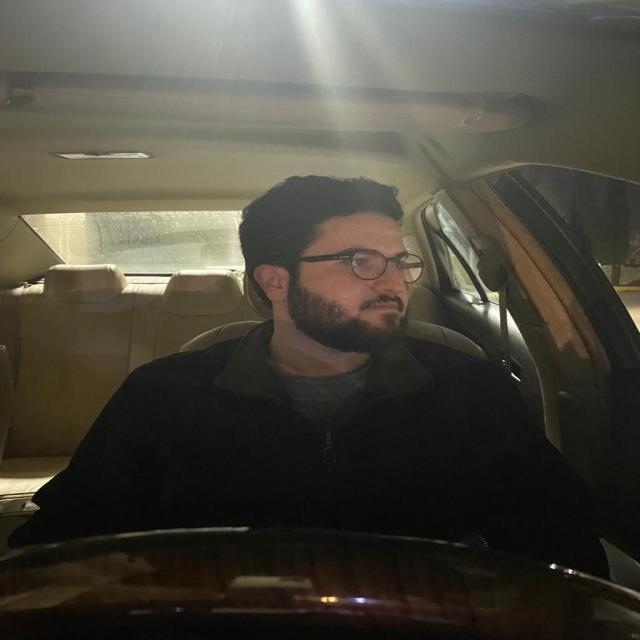person: (232, 167, 438, 366)
